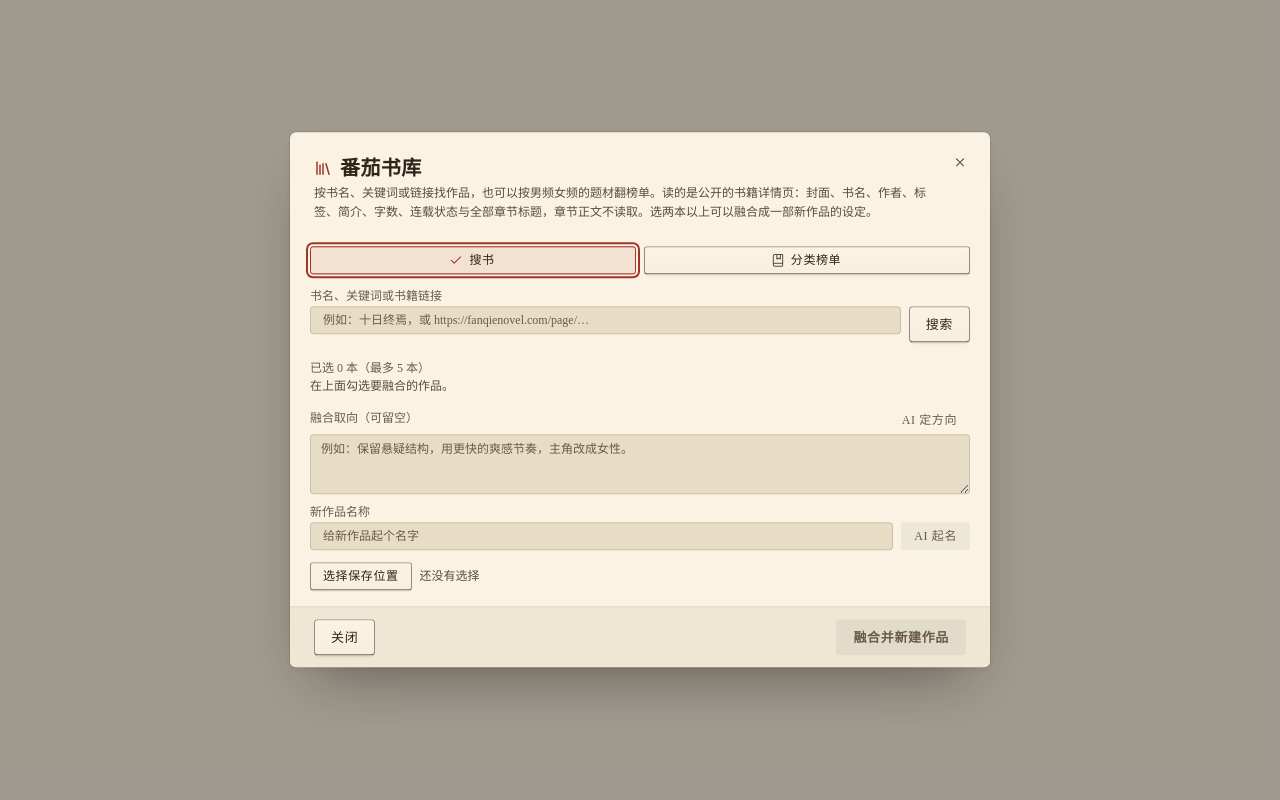
it: 番茄书库 › 按关键词搜索后列出书名、标签与规模
Type "十日终焉" into the field labelled "书名、关键词或书籍链接".
click(605, 321); type("十日终焉")  # box [310,307,901,335]
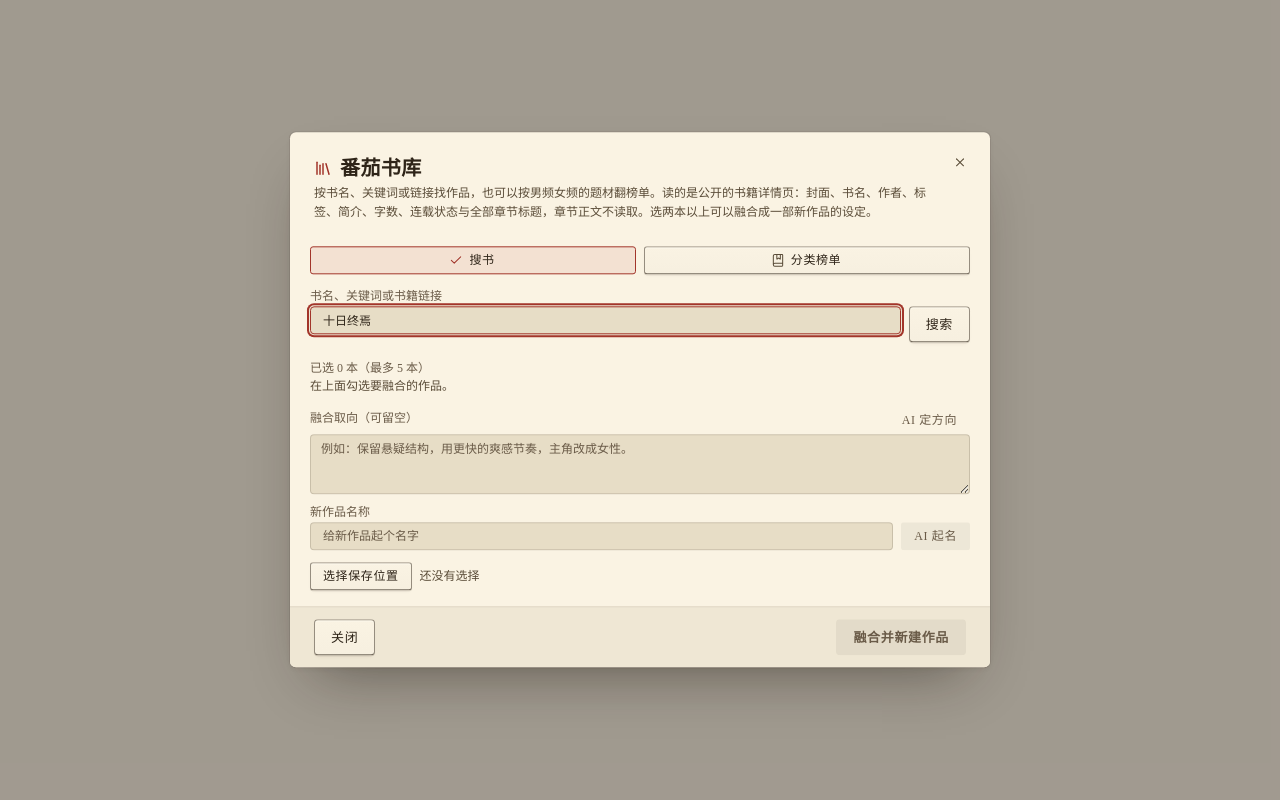
Click the button "搜索".
click(939, 325)  # box [909,307,970,343]
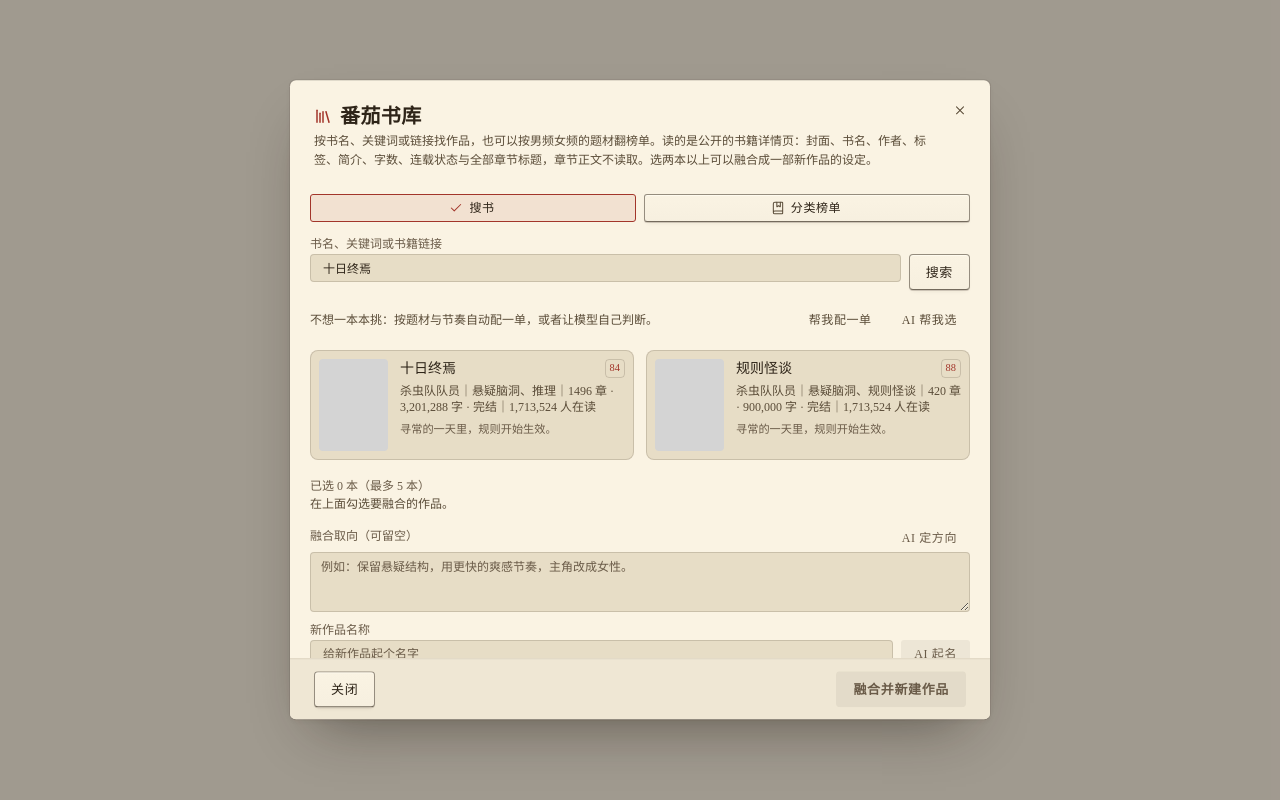
Now the text "十日终焉" is shown, box [400,362,456,377]
Now the text "杀虫队队员｜悬疑脑洞、推理｜1496 章 · 3,201,288 字 · 完结｜1,713,524 人在读" is shown, box [400,384,625,416]
Now the text "规则怪谈" is shown, box [736,362,792,377]
